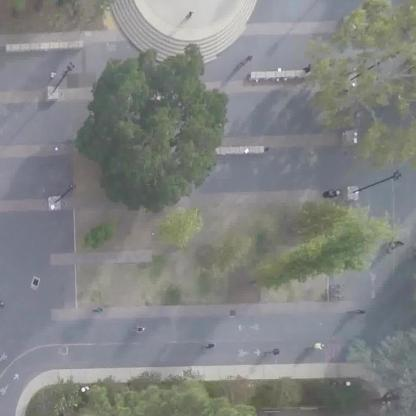Bicyclist: (262, 343, 288, 359), (386, 236, 404, 258), (304, 341, 324, 355)
Pedestrian: (233, 47, 258, 72), (87, 300, 111, 324), (196, 335, 224, 352), (347, 301, 375, 316), (44, 64, 61, 88), (126, 320, 150, 336), (297, 63, 316, 82), (183, 4, 199, 26)
